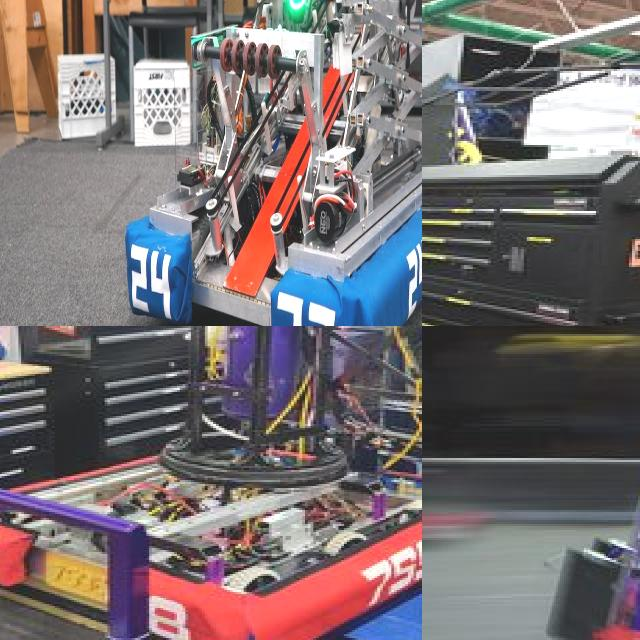FRC-Robots: (8, 0, 422, 326), (0, 326, 422, 640), (422, 83, 595, 326), (517, 326, 640, 640)
